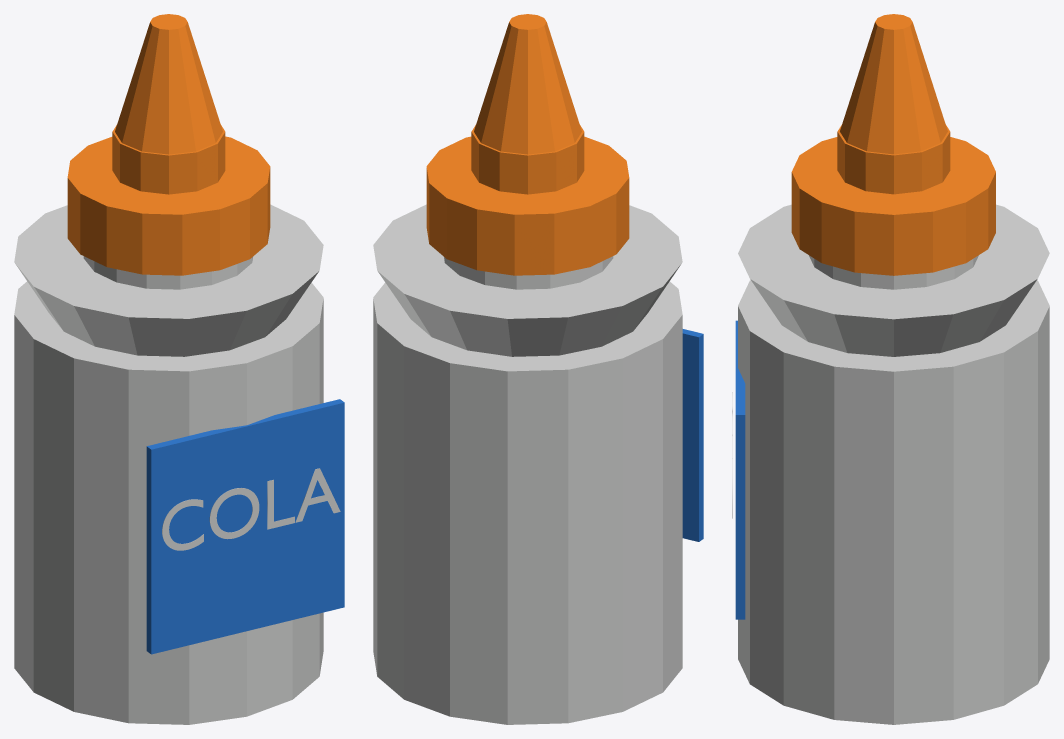
File: Glue.fbx
3 views of the same model, side by side, from view 1: azimuth 30°, elevation 25°; view 2: azimuth 150°, elevation 25°; view 3: azimuth 270°, elevation 25° (orthographic).
Parts seen in each view (by area): view 1: Ponta aplicadora, Texto cola; view 2: Ponta aplicadora; view 3: Ponta aplicadora.
Part boxes in pixels (bbox=[...]): Ponta aplicadora: bbox=[14, 14, 344, 724]; Texto cola: bbox=[162, 468, 340, 550]; Ponta aplicadora: bbox=[373, 14, 703, 724]; Ponta aplicadora: bbox=[735, 14, 1049, 724].
Size of the model in its own units: 116 by 262 by 118.
